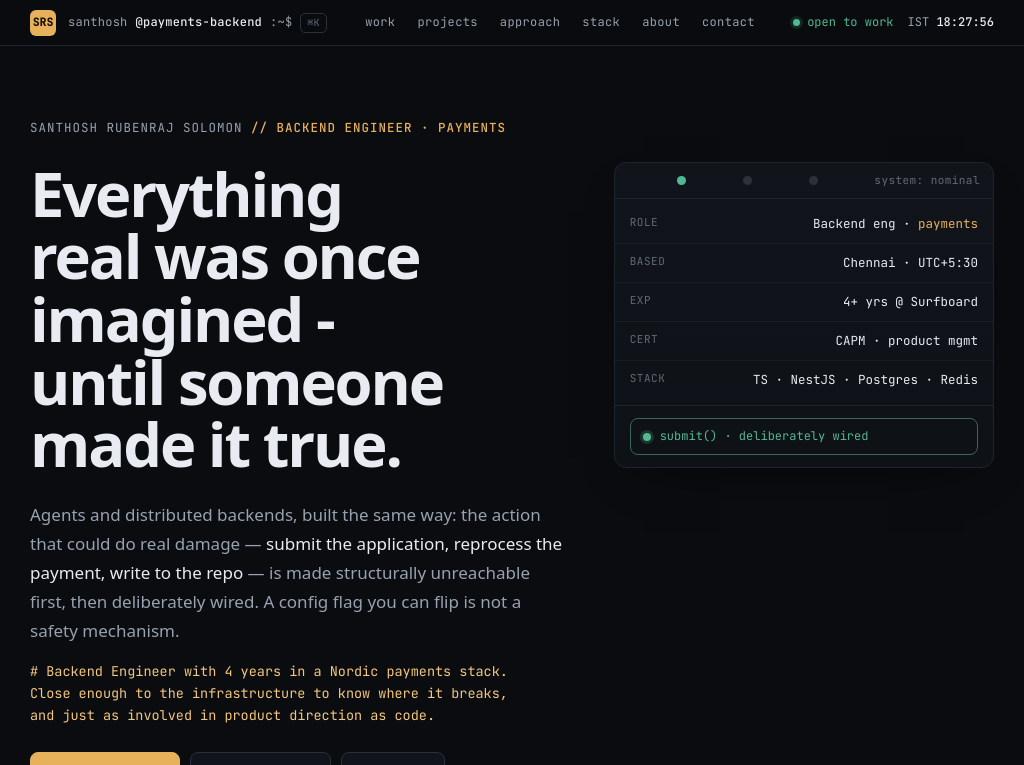
Test case: suggestions › lists every command when empty, with the first one highlighted
Step 1. Click the button titled "Command palette (⌘K)" → (197, 22), box x1=68 y1=12 x2=327 y2=32
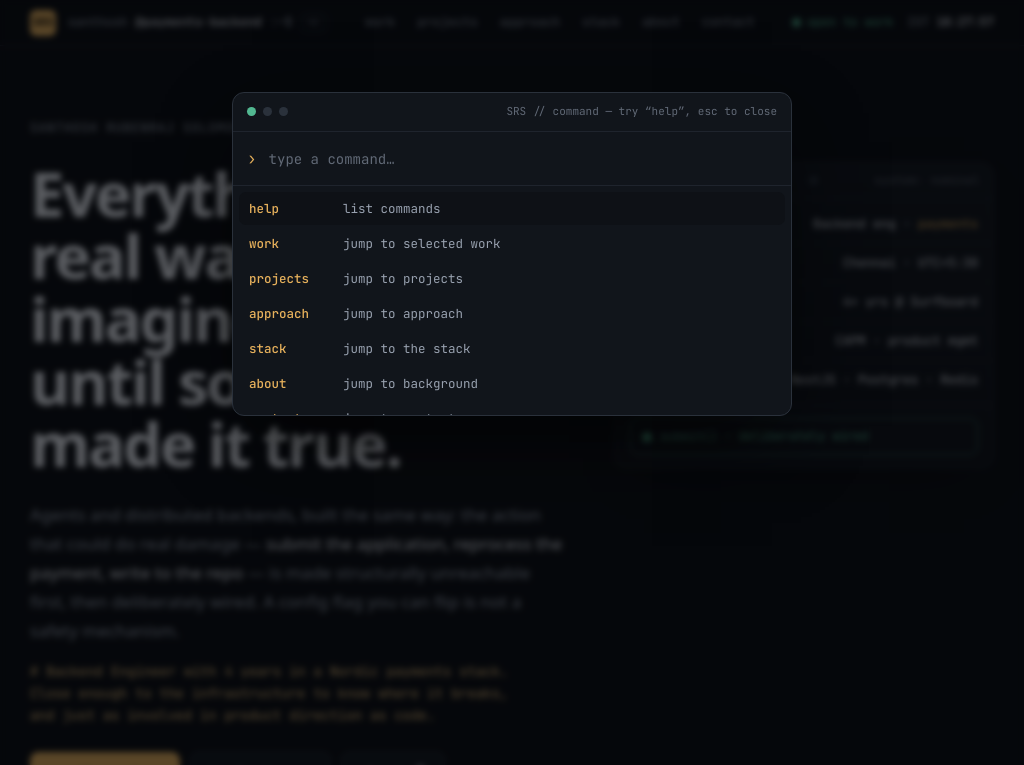
Now the text "help" is shown, box x1=249 y1=200 x2=279 y2=217
